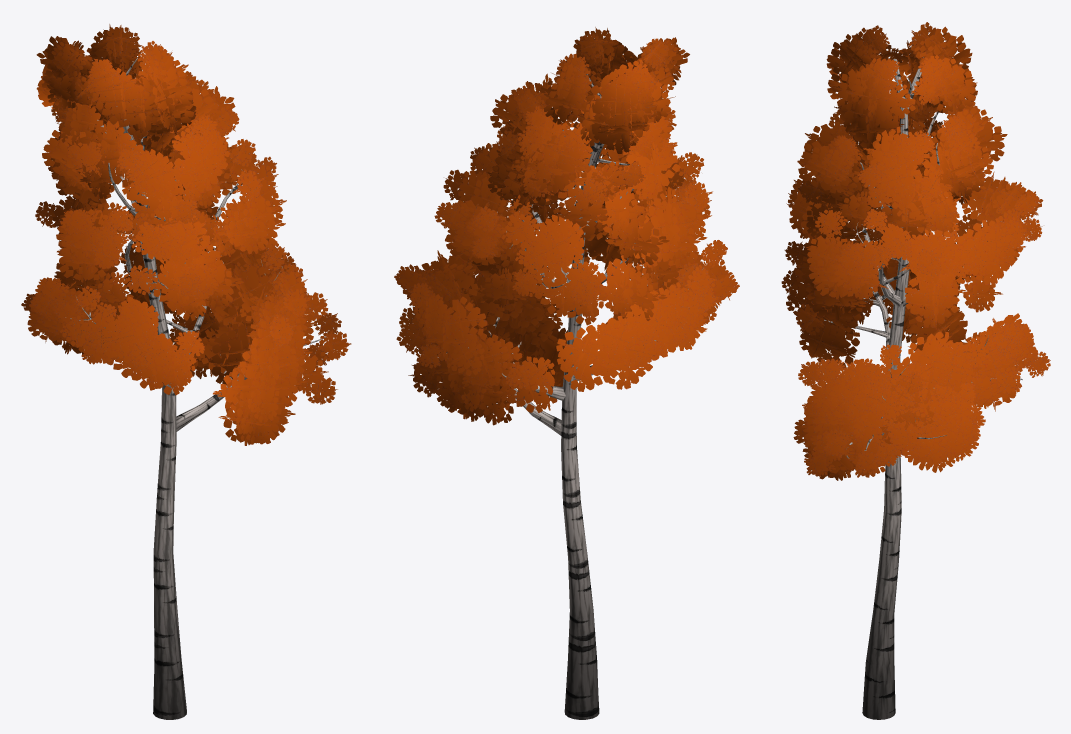
Rendered from tree-health-2-young.glb.
The picture shows the model from 3 angles, left to right: view 1: azimuth 30°, elevation 25°; view 2: azimuth 150°, elevation 25°; view 3: azimuth 270°, elevation 25°; orthographic projection. The views are drawn at different scales.
Parts seen in each view (by area): view 1: Birch_2; view 2: Birch_2; view 3: Birch_2.
Part boxes in pixels (x1,y1,x2,y2): Birch_2: (21,24,351,719); Birch_2: (394,27,739,719); Birch_2: (781,22,1050,719).
Bounding box in the file's own units: 1.18 × 2.4 × 0.9314.
2 materials, 2 textured.
